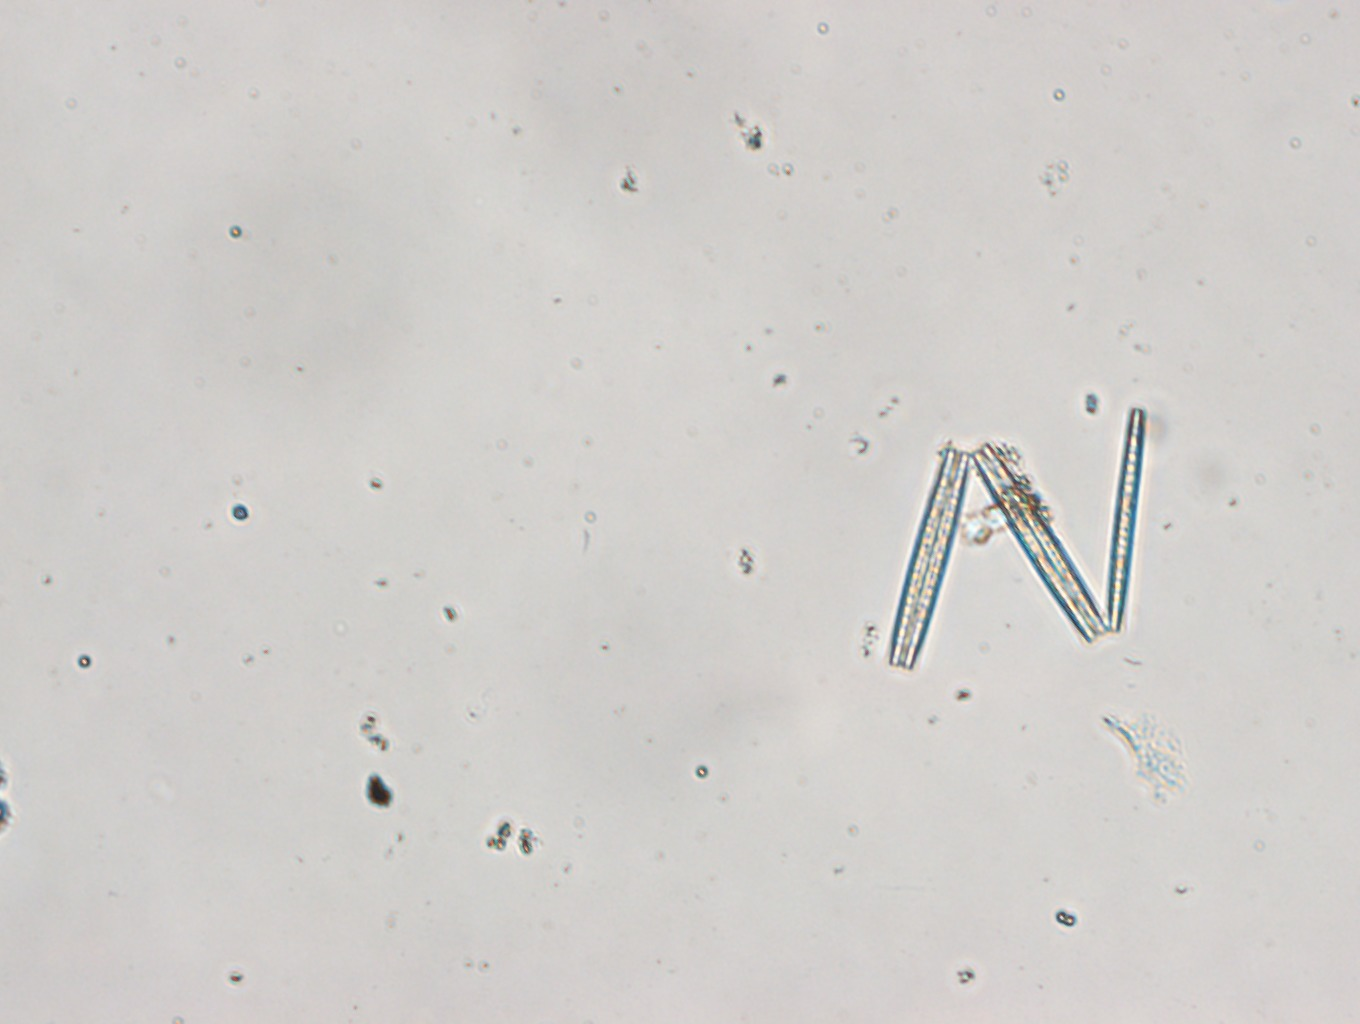thalassionema nitzschioides: (885, 402, 1148, 672)
